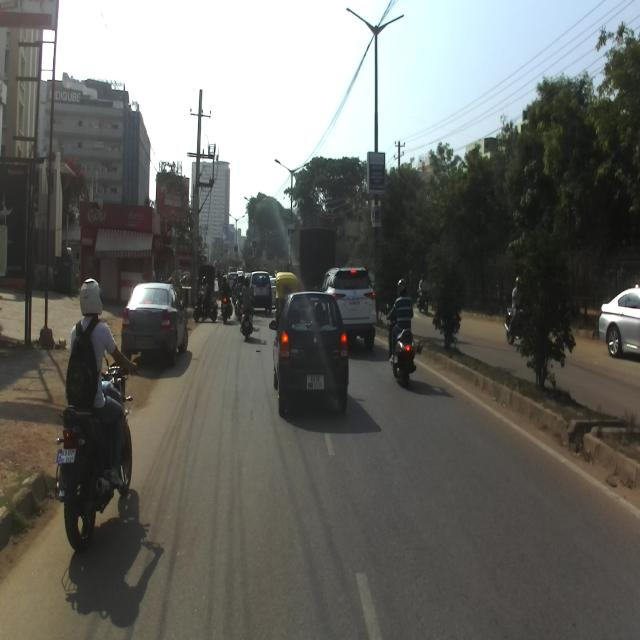car ahead at: (272, 285, 352, 431), (124, 274, 188, 366)
motorcycle ahead at: (49, 273, 140, 543), (385, 274, 421, 385)
